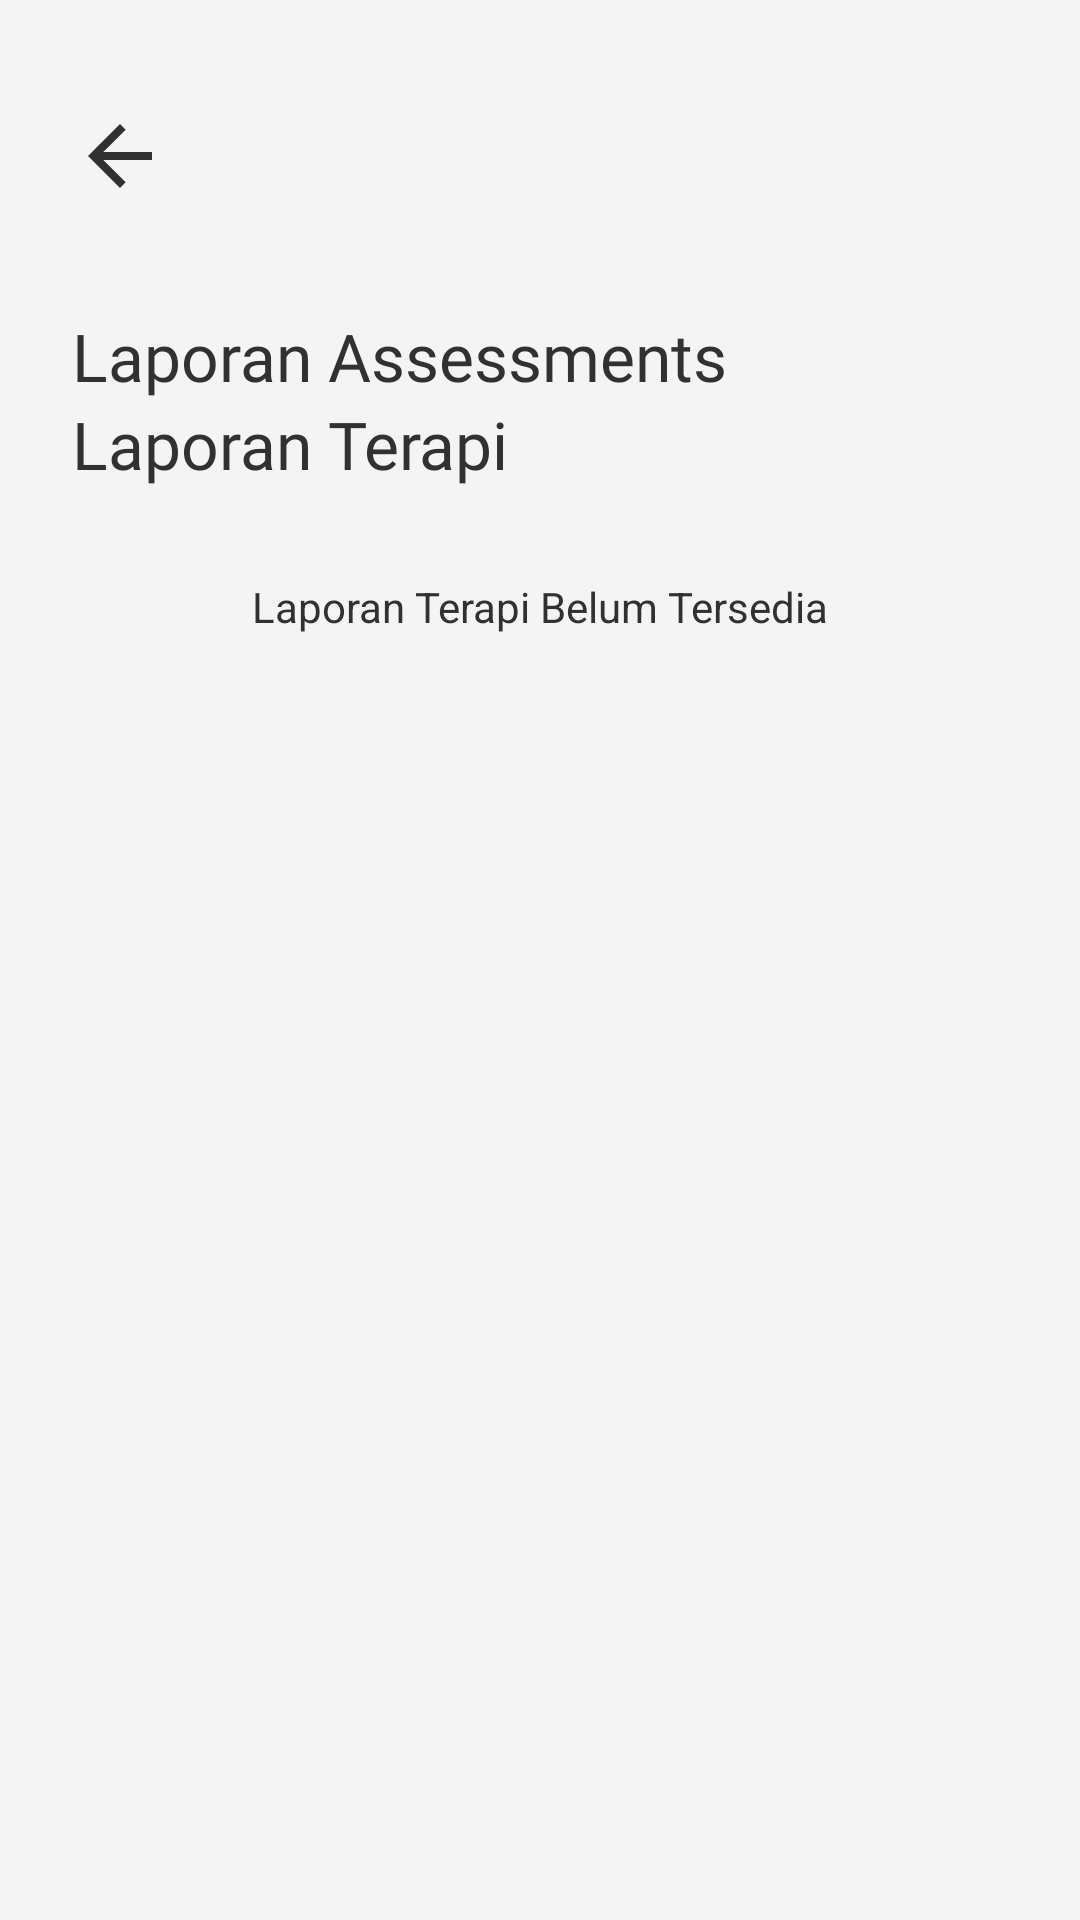

Icons on this 1080 x 1920 Android screen, each with its box as rect(x1, y1, x2, y2):
arrow back: rect(88, 124, 152, 188)
